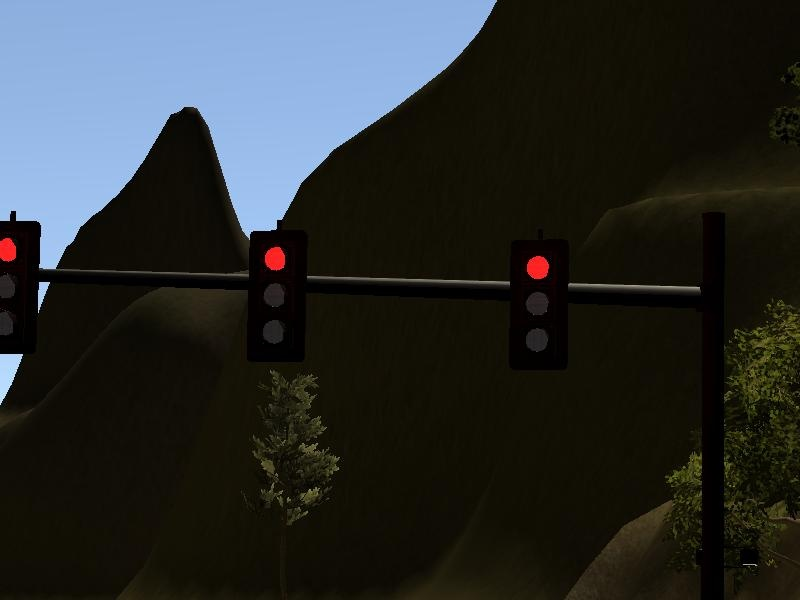red: (245, 232, 312, 362), (507, 239, 567, 375)
